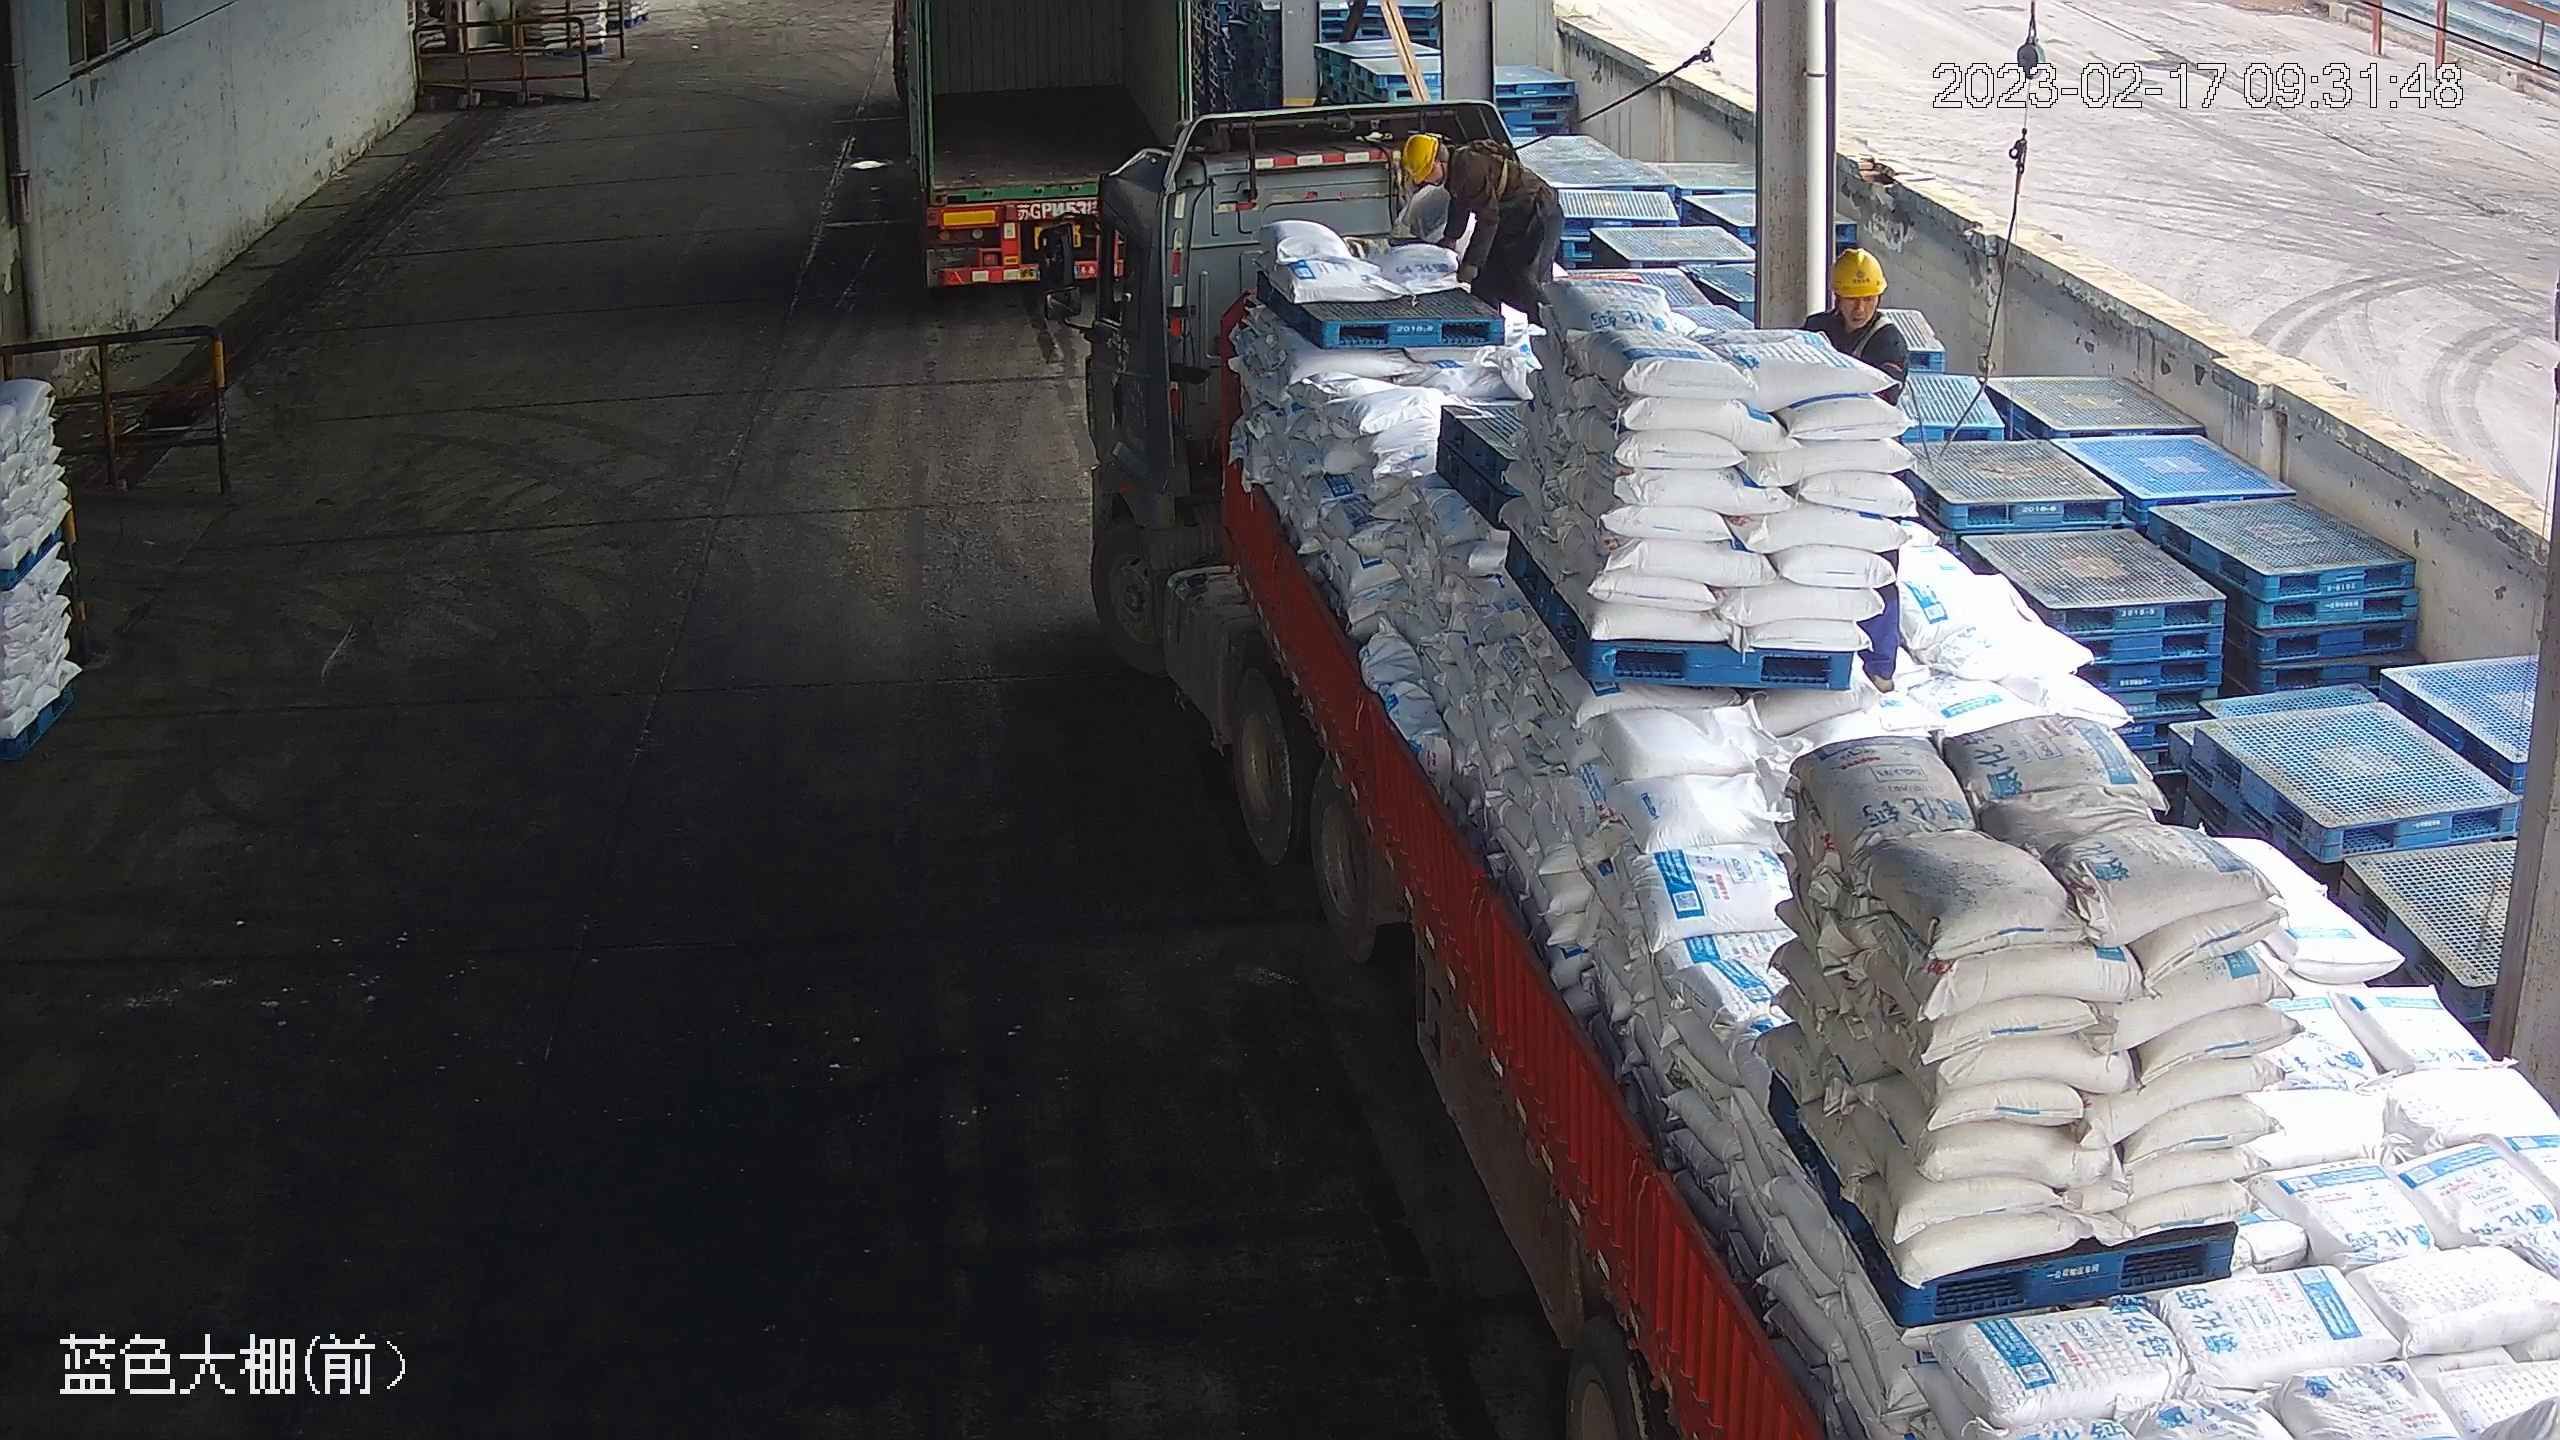belt: (1452, 140, 1519, 204), (1823, 304, 1892, 363)
head: (1801, 246, 1912, 363), (1397, 134, 1488, 195)
helmet: (1827, 246, 1890, 299), (1399, 135, 1441, 184)
people: (1397, 132, 1565, 319)
truck: (1089, 97, 2560, 1440)
